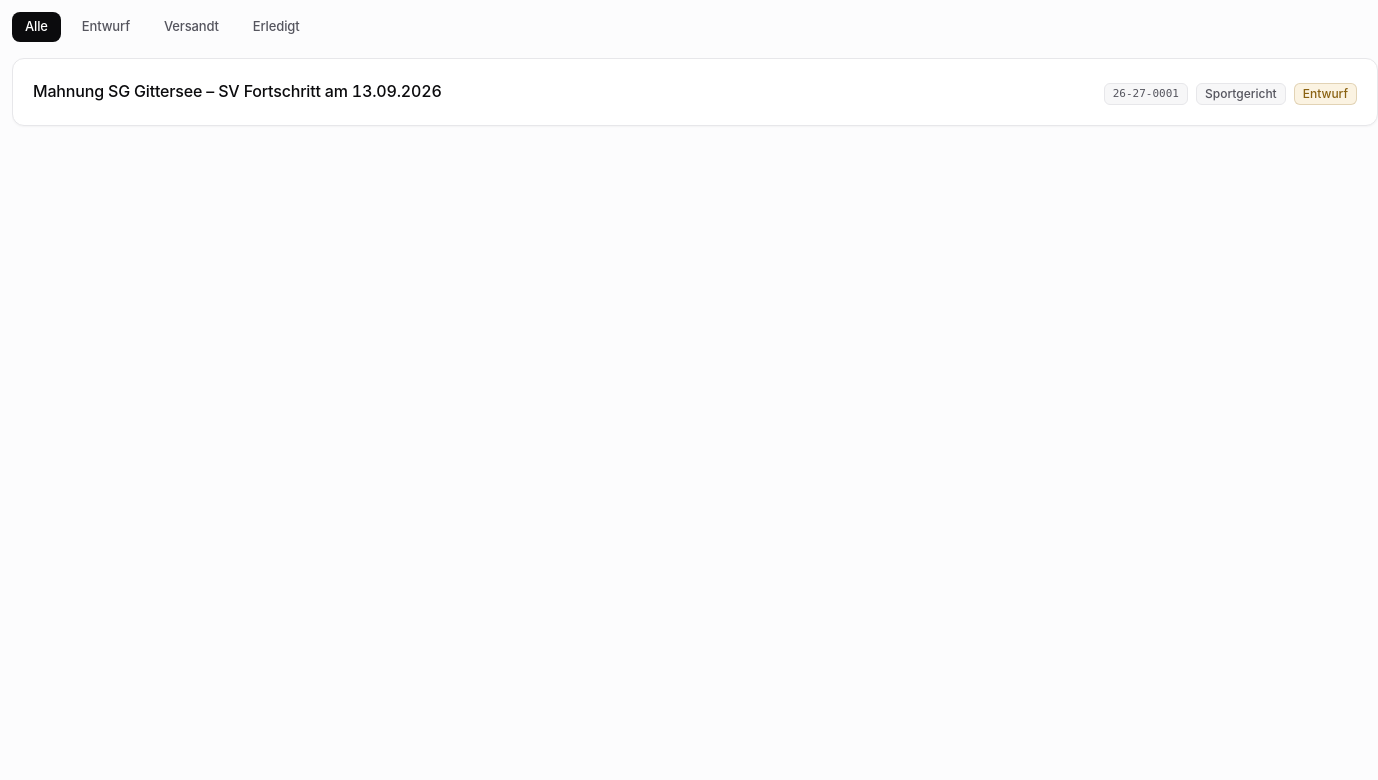
Ein Vorgang › Ein Fall beim Sportgericht › merkt den Fall vor und sagt, dass noch nichts passiert ist
Click the 5th button. click: (237, 91)
box: [33,79,1357,105]
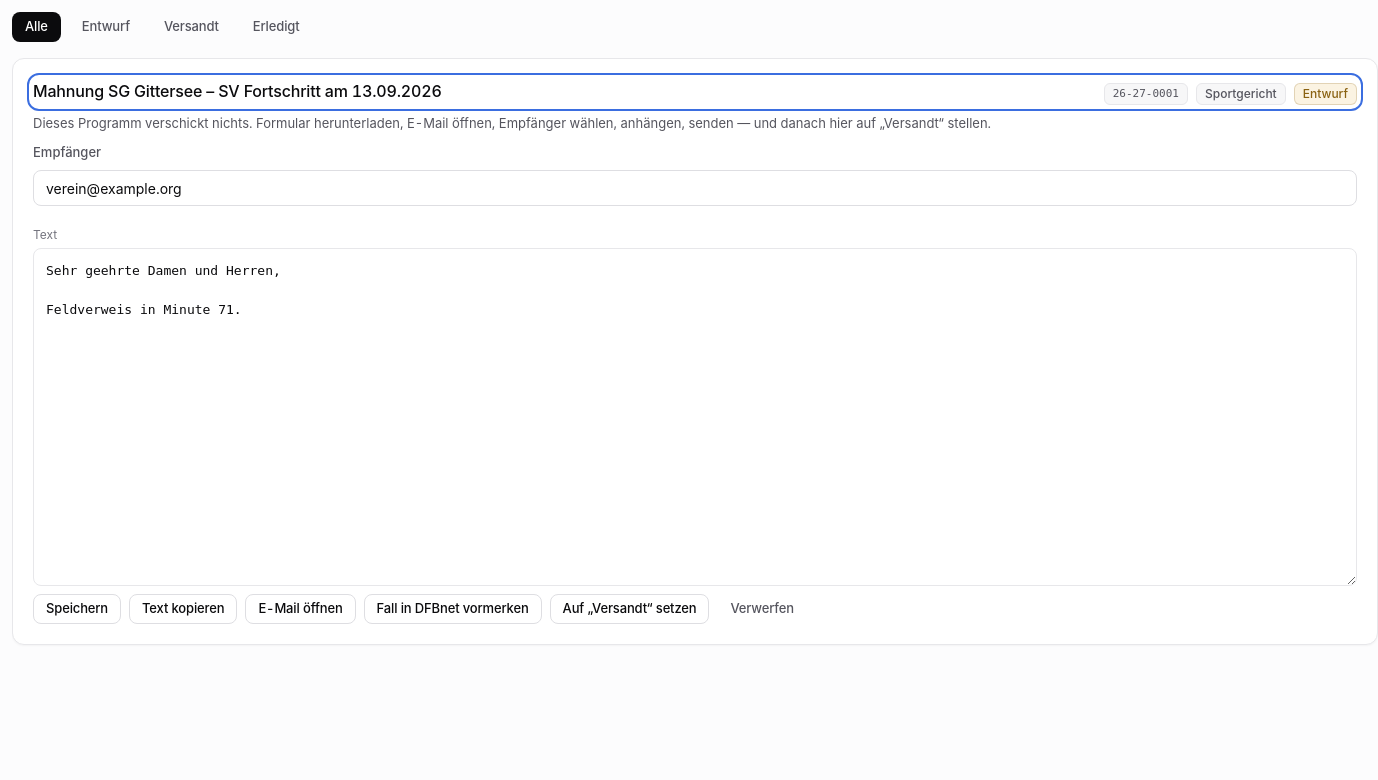
Click the button "Fall in DFBnet vormerken". click: (453, 609)
box: [364,594,542,624]
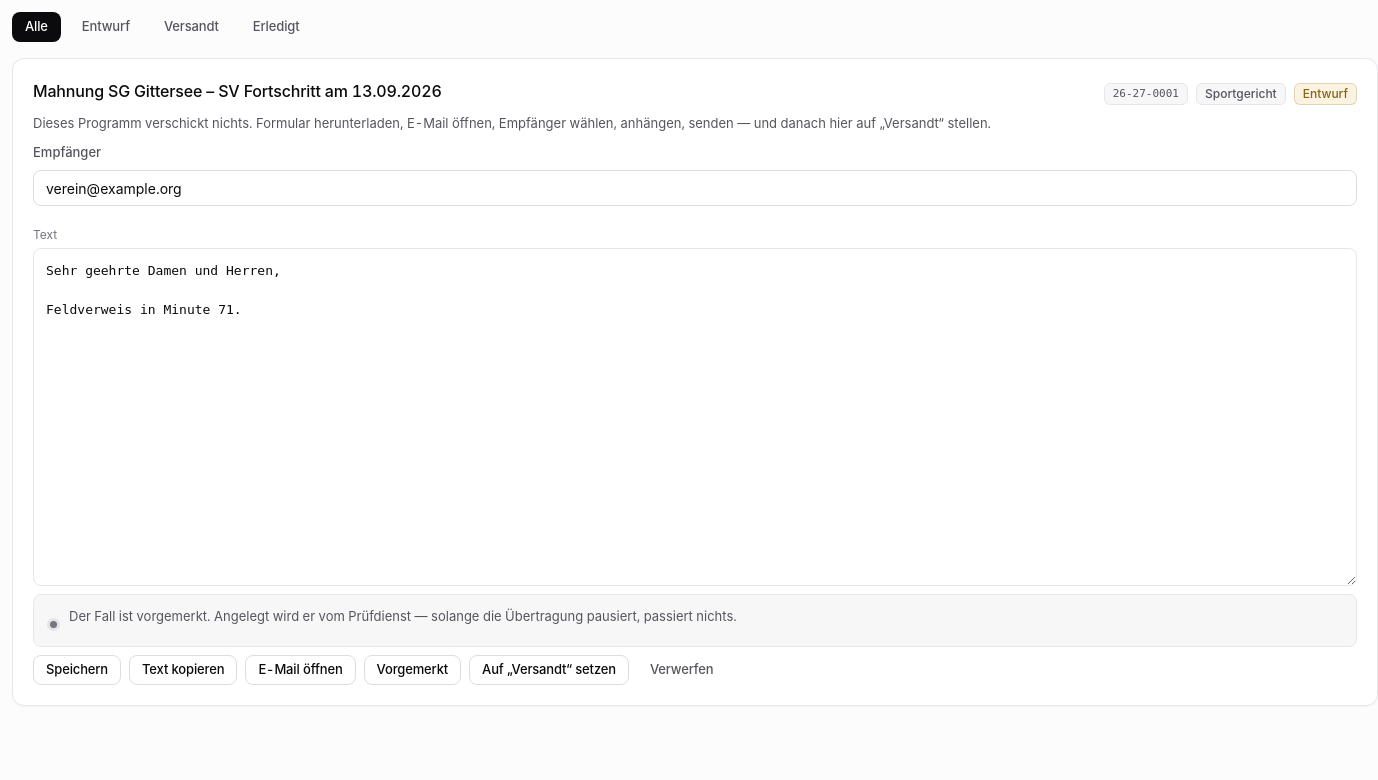
Result: the text "vorgemerkt" is shown at [69,608,737,624]
